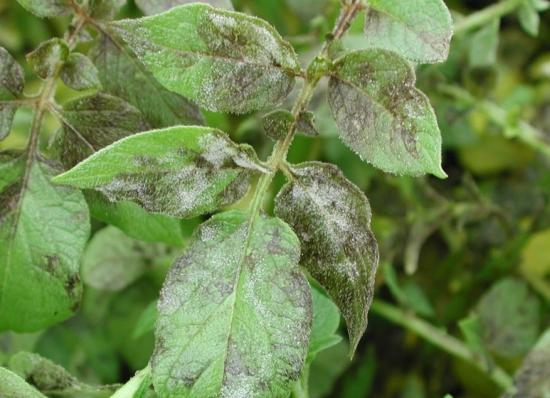Potato leaf: (56, 122, 384, 395), (96, 1, 301, 122), (322, 44, 450, 185)
